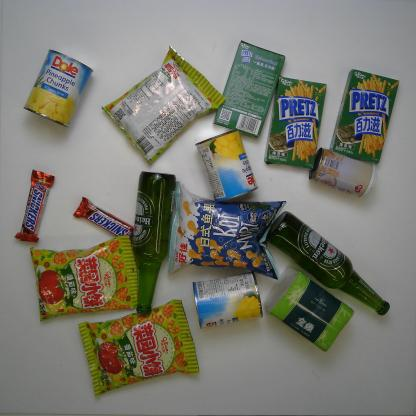Alcohol: (262, 210, 392, 316), (129, 166, 181, 314)
Canned Food: (25, 45, 92, 129), (188, 267, 265, 334), (194, 129, 258, 203), (310, 144, 378, 199)
Chocolate: (15, 164, 59, 245), (72, 198, 138, 242)
Dessert: (211, 40, 289, 138), (330, 69, 402, 164), (262, 76, 334, 171)
Puffed Food: (100, 42, 226, 164), (81, 293, 200, 397), (165, 182, 289, 280), (30, 228, 147, 324)
Tissue: (262, 262, 356, 356)
